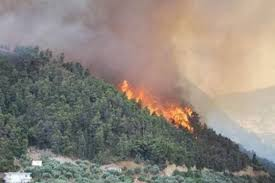fire: (118, 75, 197, 130)
smoke: (43, 1, 143, 47)
